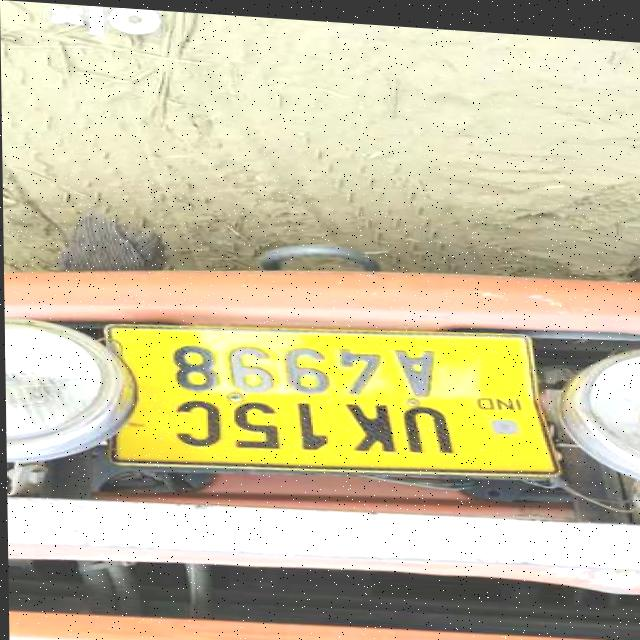plate: (103, 304, 560, 486)
